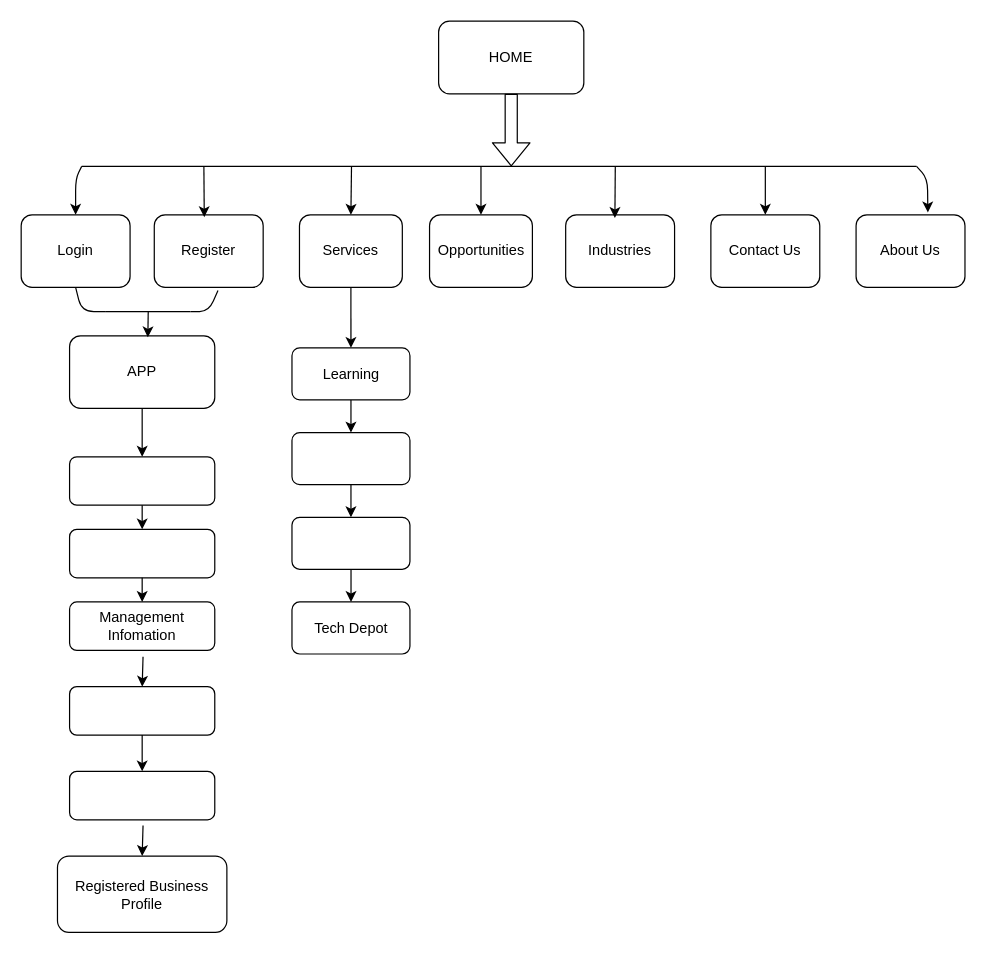
The diagram is 986 pixels wide and 953 high, and some of its shapes have lost their labels. The centre of each missing label's shape, as x and y in pixels:
"Business Documents" belongs at point 141,795.
"Business Guide" belongs at point 350,542.
"Business Information" belongs at point 141,553.
"Financial Information" belongs at point 141,710.
"Networking" belongs at point 350,458.
"Personal Infomation" belongs at point 141,480.
